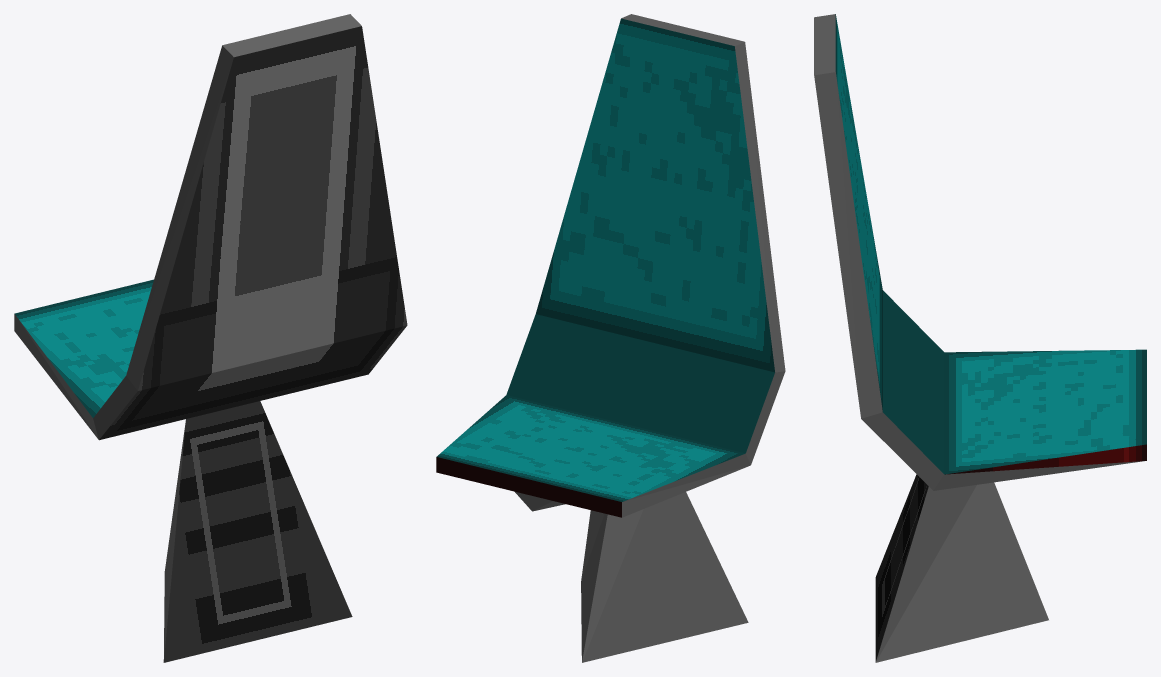
3 renders of one model, left to right at view 1: azimuth 30°, elevation 25°; view 2: azimuth 150°, elevation 25°; view 3: azimuth 270°, elevation 25°, orthographic. The views are drawn at different scales.
Visible parts, largest first — view 1: ss3d_23_chair; view 2: ss3d_23_chair; view 3: ss3d_23_chair.
Part boxes in pixels (x1,y1,x2,y2): ss3d_23_chair: (14,14,407,662); ss3d_23_chair: (436,14,785,662); ss3d_23_chair: (814,14,1146,662).
Size of the model in its own units: 0.2812 by 0.6223 by 0.3234.
Materials: 1 (1 with a texture image).
